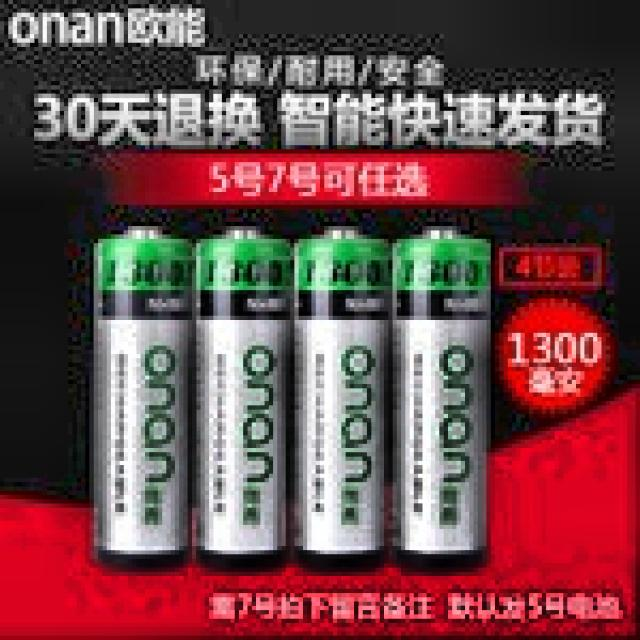Non-Valuable Waste - Batteries: (193, 229, 291, 564), (393, 229, 490, 565), (95, 229, 191, 564), (295, 229, 390, 564)
